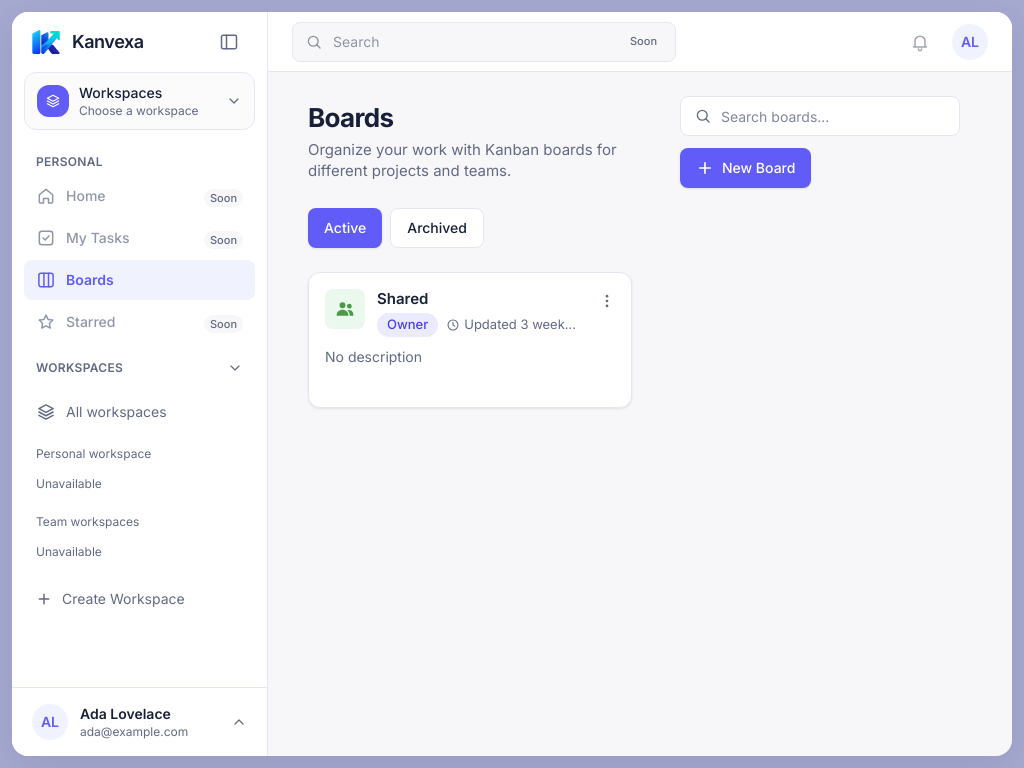
it: edit and archive board › shows a permission error when the server refuses to archive
This screenshot has width=1024, height=768.
Click the button named "Actions for Shared".
click(607, 301)  # box top-left (591, 285), bottom-right (623, 317)
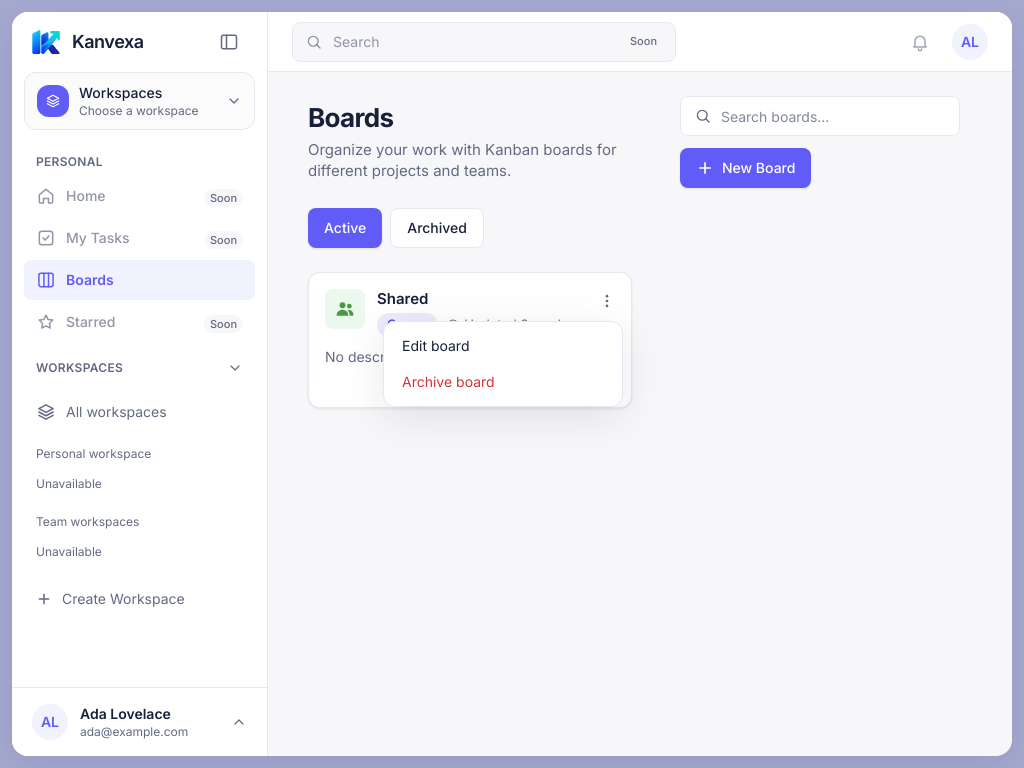
Click the button "Archive board".
click(503, 382)  # box top-left (390, 364), bottom-right (616, 400)
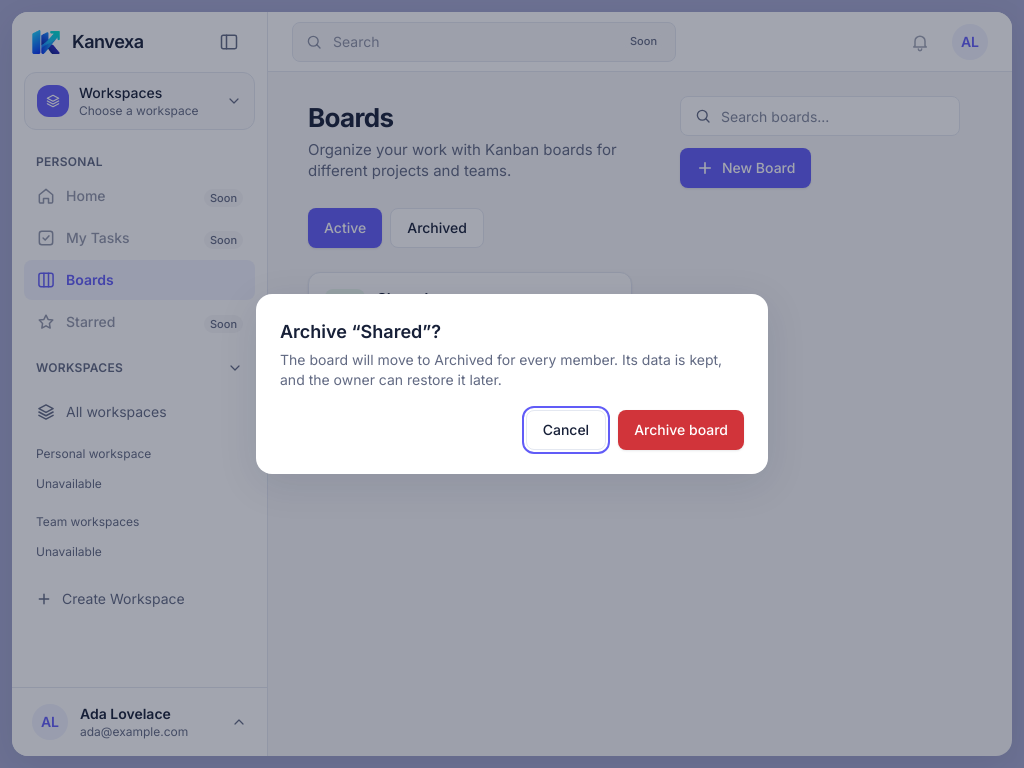
Click the button "Archive board".
click(681, 430)  # box top-left (618, 410), bottom-right (744, 450)
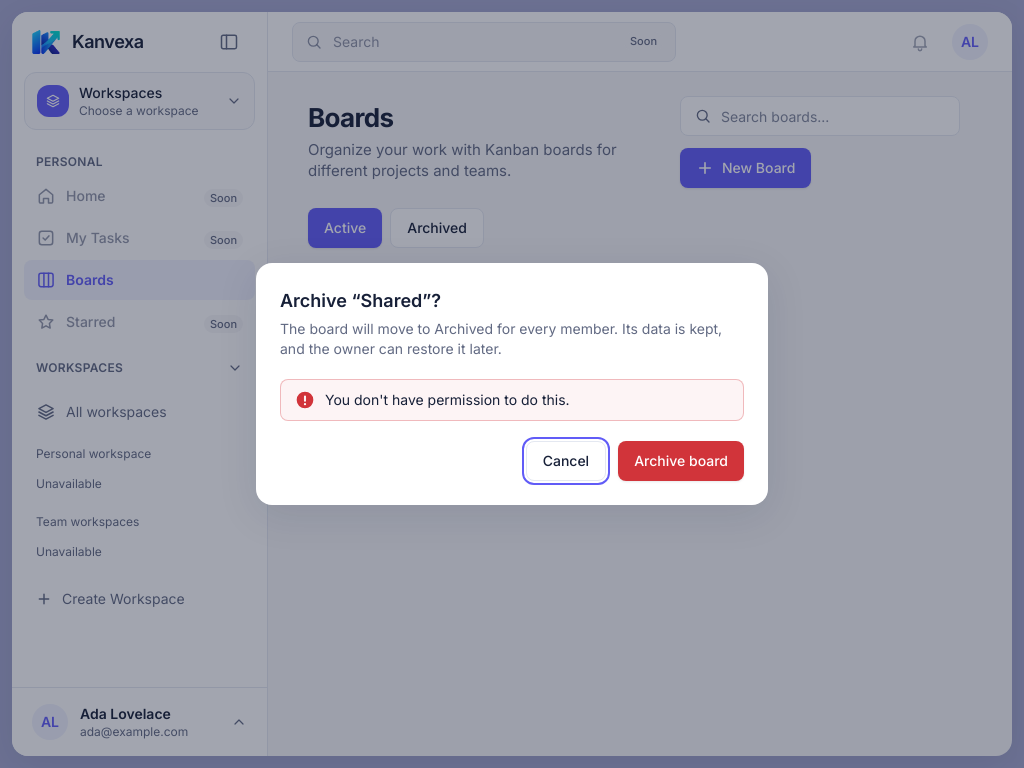
Check: the message reads "You don't have permission to do this.", box top-left (325, 391), bottom-right (570, 408)
